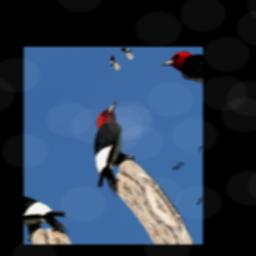Woodpecker: (63, 98, 162, 204)
